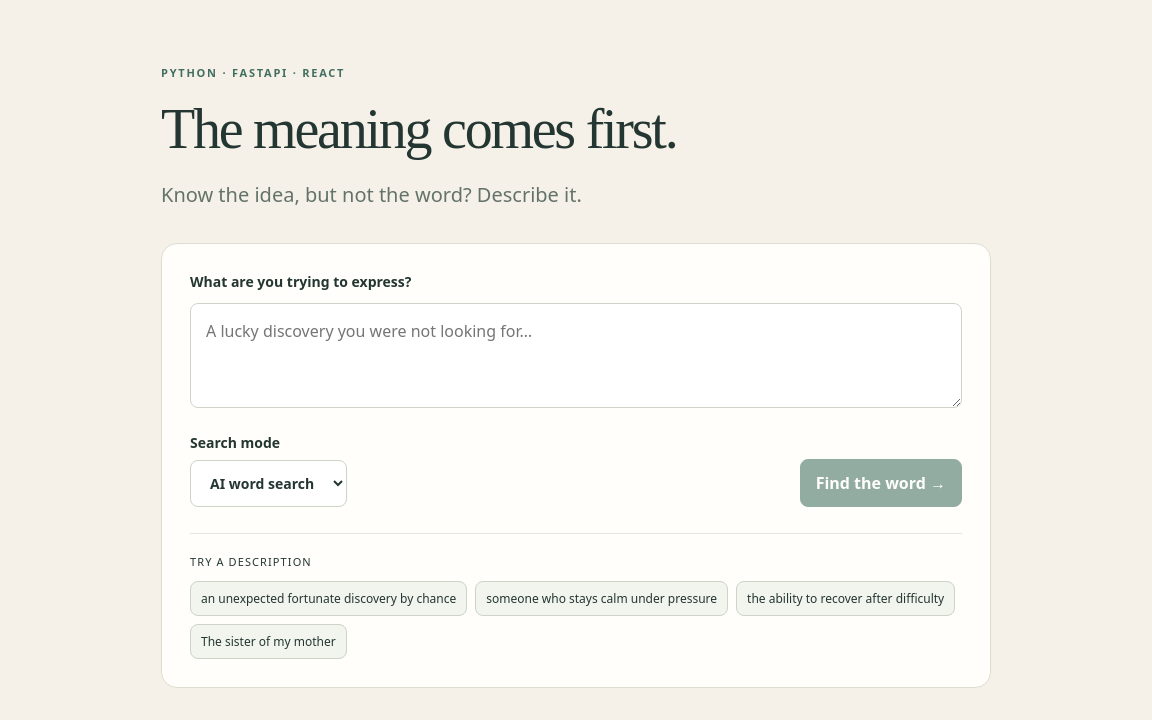
does not retry invalid descriptions through local search
In the text box labelled "What are you trying to express?": (576, 356) [190,303,962,408], type "some description"
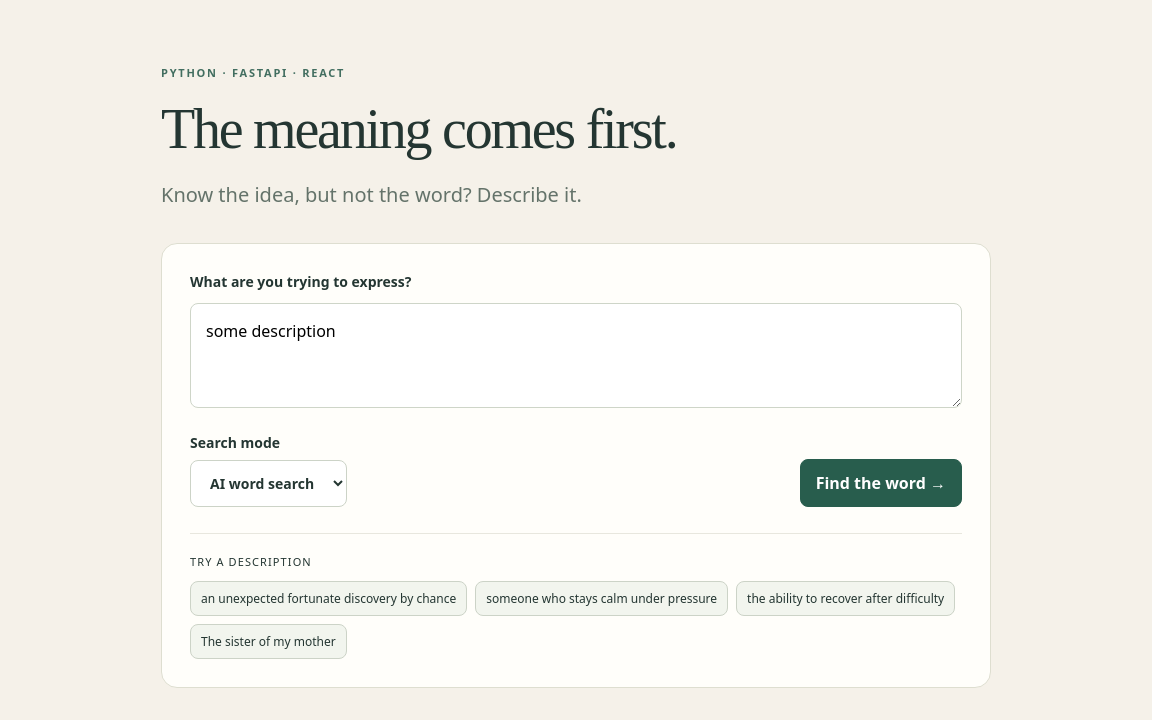
Click the button "Find the word →": (881, 483) [800,459,962,507]
(page scrolled)
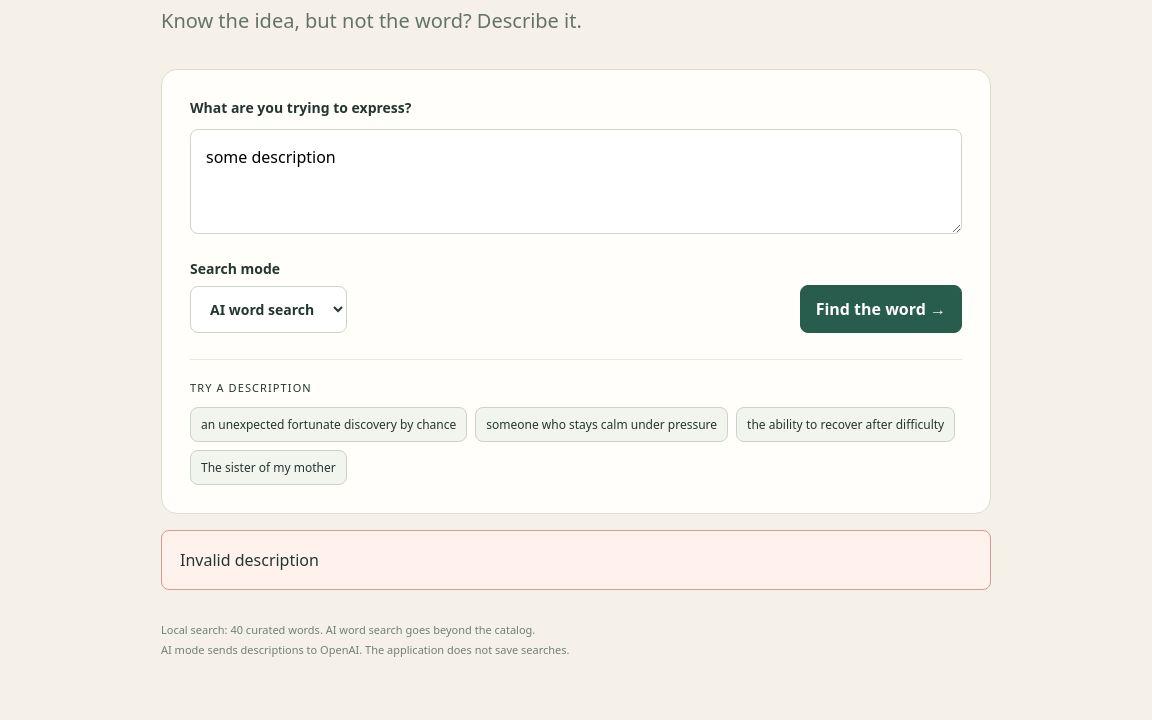
Now the message reads "Invalid description", box [180,549,319,571]
